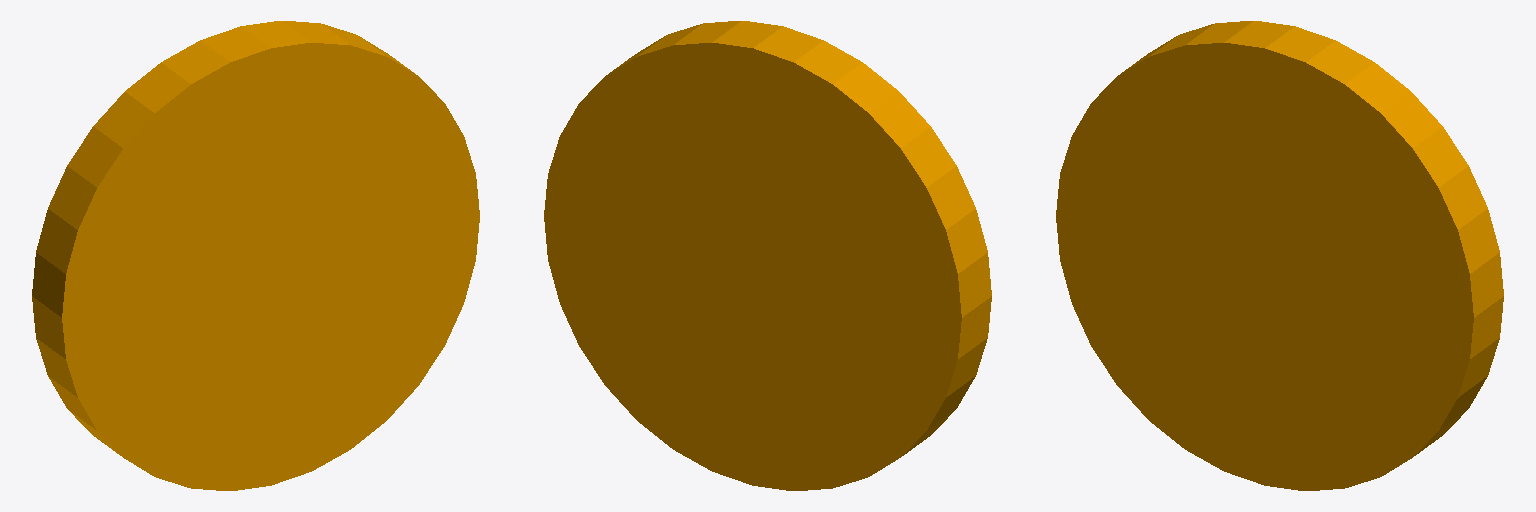
URDF robot description (multipleshapes):
<?xml version="1.0"?>
<robot name="multipleshapes">
  <link name="base_link">
    <visual>
      <origin rpy="1.571 0 0" xyz="0 0 0"/>
      <geometry>
        <cylinder length="0.05" radius="0.2"/>
      </geometry>
    </visual>
  </link>

  <link name="camera">
    <visual>
      <!-- switch camera position 180degress on base surface -->
      <origin rpy="3.142 0 0" xyz="-0.14 0.12 0.4"/>
      <!-- <origin rpy="-1.571 0 0" xyz="-0.04 -0.1 0"/> -->
      <geometry>
        <mesh filename="package://youliang/urdf/pyramid.dae" scale="40 40 40" />
      </geometry>
    </visual>
  </link>

  <joint name="base_to_camera" type="fixed">
    <parent link="base_link"/>
    <child link="camera"/>
  </joint>


</robot>

--- Render facts (derived) ---
Views: 3 orthographic renders of the robot side by side, from view 1: azimuth 30°, elevation 25°; view 2: azimuth 150°, elevation 25°; view 3: azimuth 330°, elevation 25°.
Model multipleshapes with 2 links and 1 joints (1 fixed), rooted at base_link, posed all joints at 0.
Links seen in each view (by area): view 1: base_link; view 2: base_link; view 3: base_link.
Link boxes in pixels (x1,y1,x2,y2): base_link: [32, 21, 479, 490]; base_link: [544, 21, 991, 490]; base_link: [1056, 21, 1503, 490].
Size in the robot's own frame: 0.4 by 0.0501 by 0.4 metres.
0 mesh visuals loaded from 1 distinct referenced files (none loaded); not drawn: 1 (file found but could not be loaded).
